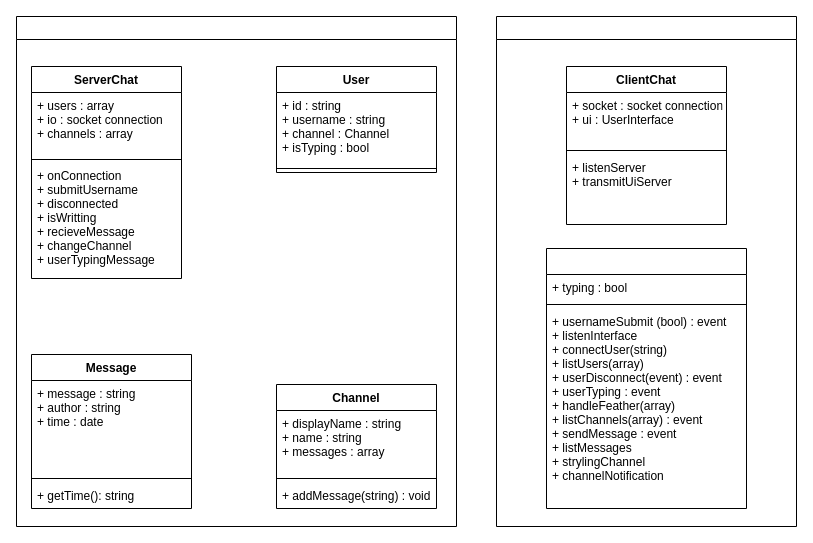
This 813x543 diagram has some shape labels left out. Each missing label, with the box of its shape:
Backend: (16, 16, 456, 526)
Frontend: (496, 16, 796, 526)
UserInterface: (546, 248, 746, 508)
